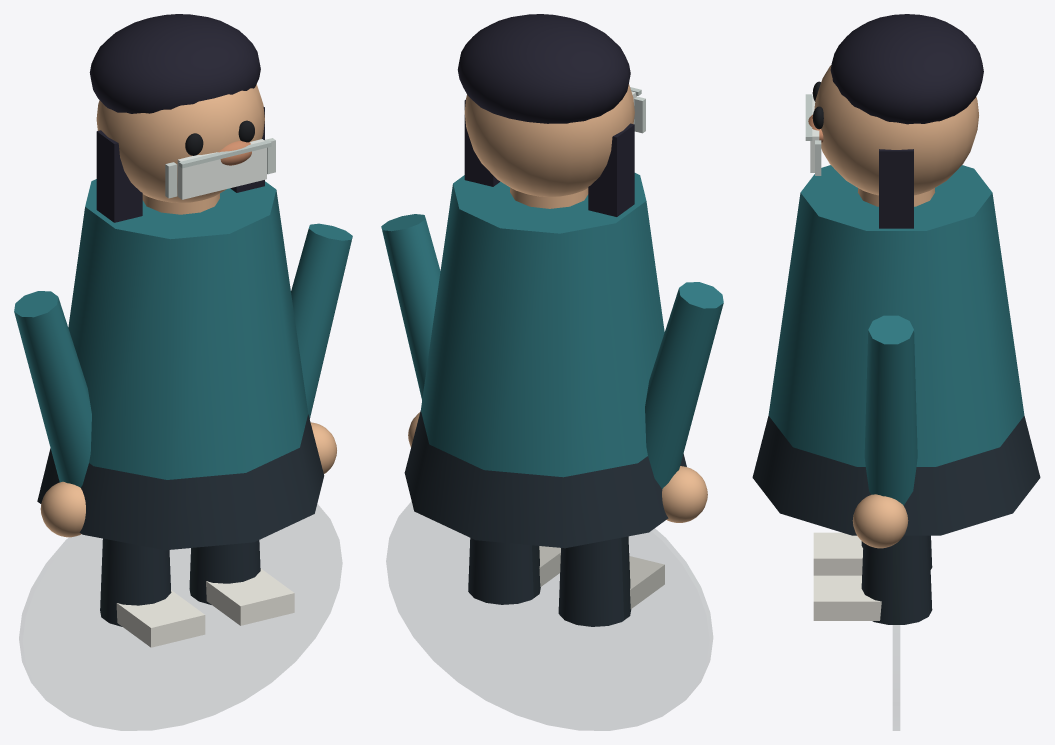
Rendered from customer_01.glb.
3 renders of one model, left to right at view 1: azimuth 30°, elevation 25°; view 2: azimuth 150°, elevation 25°; view 3: azimuth 270°, elevation 25°, orthographic. The views are drawn at different scales.
Visible parts, largest first — view 1: torso, contact_shadow, skirt, hair_cap, head, arm_-0.255, arm_0.255, leg_-0.095, shoe_-0.095, shoe_0.095, leg_0.095, side_hair_-0.13 (+5 smaller); view 2: torso, contact_shadow, skirt, hair_cap, head, arm_-0.255, arm_0.255, leg_-0.095, leg_0.095, side_hair_-0.13, hand_-0.255, shoe_-0.095 (+3 smaller); view 3: torso, skirt, hair_cap, head, arm_0.255, leg_0.095, side_hair_0.13, shoe_0.095, hand_0.255, shoe_-0.095, contact_shadow.
Part boxes in pixels (<box>): torso: <box>68,179,308,479</box>; contact_shadow: <box>19,504,341,730</box>; skirt: <box>37,414,324,550</box>; hair_cap: <box>89,14,260,113</box>; head: <box>96,84,264,202</box>; arm_-0.255: <box>14,291,91,487</box>; arm_0.255: <box>291,223,352,418</box>; leg_-0.095: <box>100,538,171,626</box>; shoe_-0.095: <box>116,590,205,647</box>; shoe_0.095: <box>206,568,294,625</box>; leg_0.095: <box>189,540,260,604</box>; side_hair_-0.13: <box>96,130,142,222</box>; torso: <box>421,173,664,477</box>; contact_shadow: <box>386,502,712,730</box>; skirt: <box>404,410,686,548</box>; hair_cap: <box>457,14,630,123</box>; head: <box>464,84,634,196</box>; arm_-0.255: <box>645,282,723,488</box>; arm_0.255: <box>381,214,440,400</box>; leg_-0.095: <box>558,536,631,626</box>; leg_0.095: <box>468,538,540,604</box>; side_hair_-0.13: <box>588,123,634,216</box>; hand_-0.255: <box>662,466,707,522</box>; shoe_-0.095: <box>629,556,664,608</box>; torso: <box>768,165,1024,466</box>; skirt: <box>752,416,1040,535</box>; hair_cap: <box>830,14,983,124</box>; head: <box>814,65,978,195</box>; arm_0.255: <box>864,315,917,505</box>; leg_0.095: <box>861,535,932,624</box>; side_hair_0.13: <box>879,149,913,228</box>; shoe_0.095: <box>813,575,881,620</box>; hand_0.255: <box>852,494,908,548</box>; shoe_-0.095: <box>813,532,862,575</box>; contact_shadow: <box>893,541,899,730</box>.
Bounding box in the file's own units: 0.6765 × 1.35 × 0.5184.
